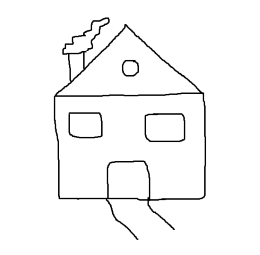door: (102, 153, 158, 208)
open_window: (144, 113, 185, 142), (68, 112, 102, 137)
roof: (55, 24, 204, 96)
smoking_chimney: (51, 10, 113, 81)
wall: (51, 87, 212, 206)
